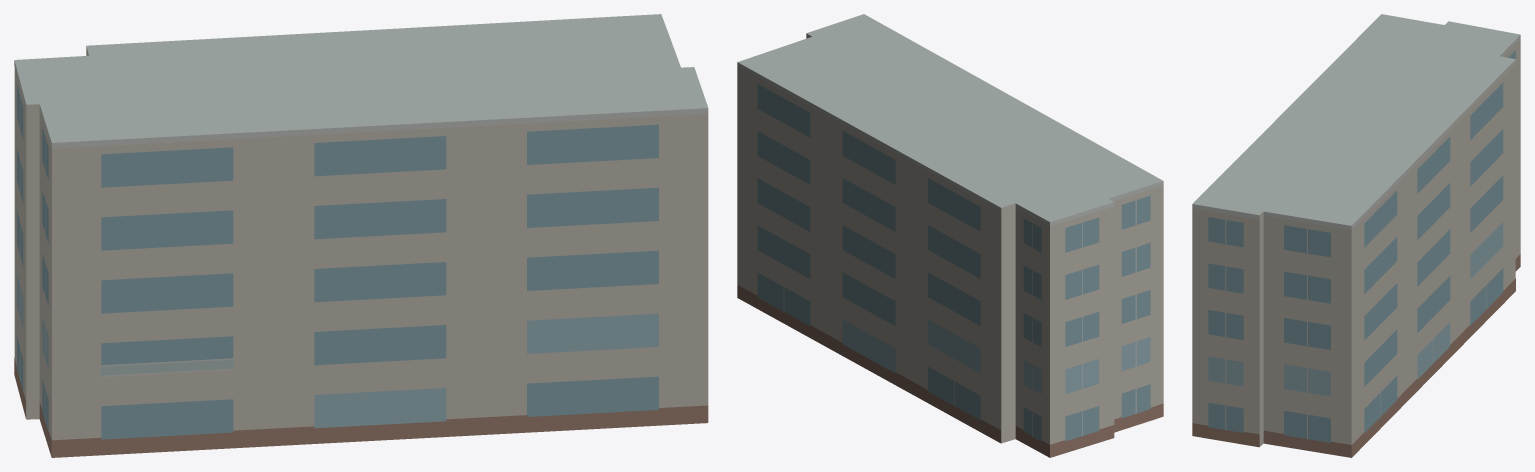
Rendered from survey-upis-32629463.glb.
3 renders of one model, left to right at view 1: azimuth 30°, elevation 25°; view 2: azimuth 150°, elevation 25°; view 3: azimuth 270°, elevation 25°, orthographic. The views are drawn at different scales.
Parts seen in each view (by area): view 1: survey-upis-32629463.tmp; view 2: survey-upis-32629463.tmp; view 3: survey-upis-32629463.tmp.
Part boxes in pixels (<box>): survey-upis-32629463.tmp: <box>14,14,708,457</box>; survey-upis-32629463.tmp: <box>737,14,1163,457</box>; survey-upis-32629463.tmp: <box>1192,14,1520,457</box>.
Bounding box in the file's own units: 26.45 × 13.5 × 17.32.
